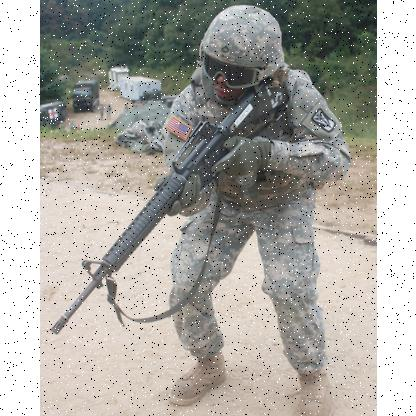gun: (51, 75, 287, 330)
